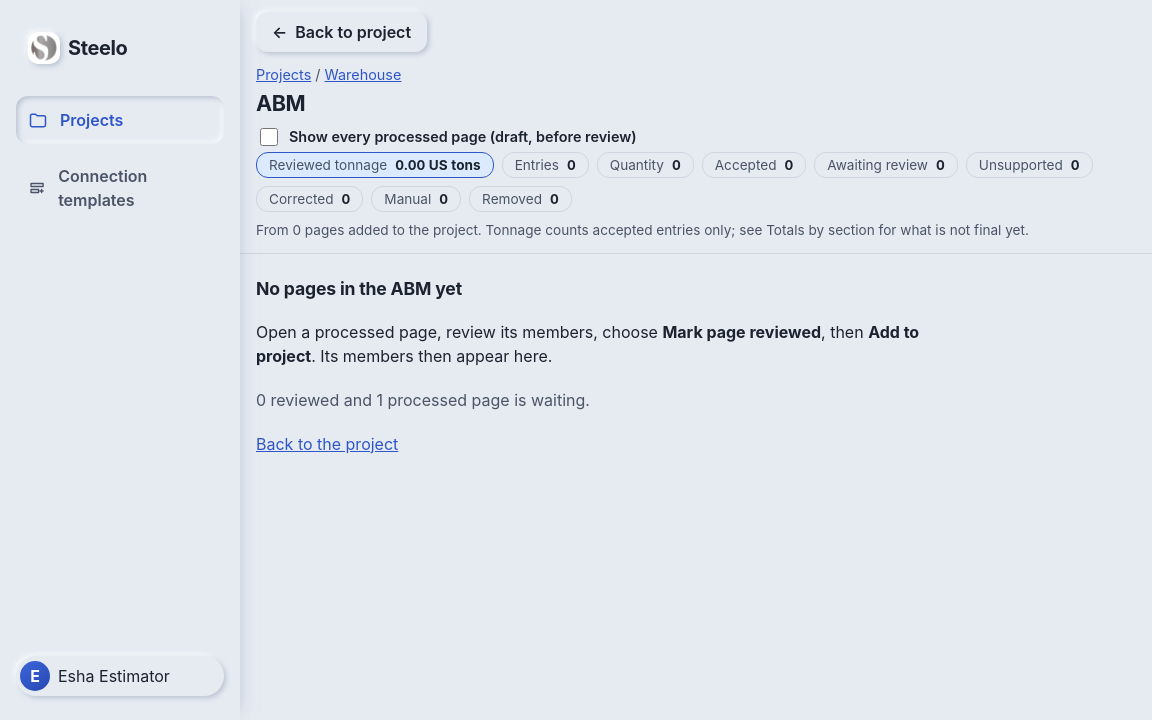
Test: ABM › shows the whole design as a draft, before any page is reviewed or added
Click the checkbox labelled "Show every processed page (draft, before review)" at (269, 137), box [260,128,278,146]
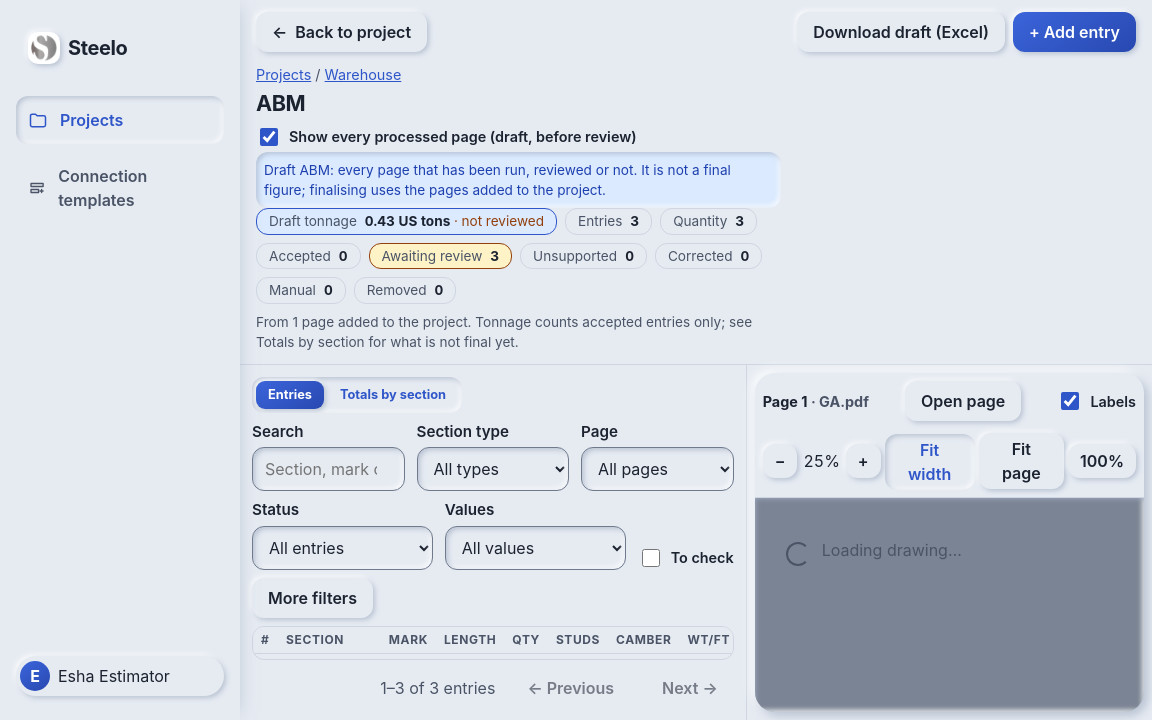
Expected: the text "Draft ABM: every page that has been run" is shown, [264,162,731,198]
Expected: the text "Draft tonnage" is shown, [269,211,357,232]
Expected: the button "Download draft (Excel)" is shown, [797,12,1005,52]
